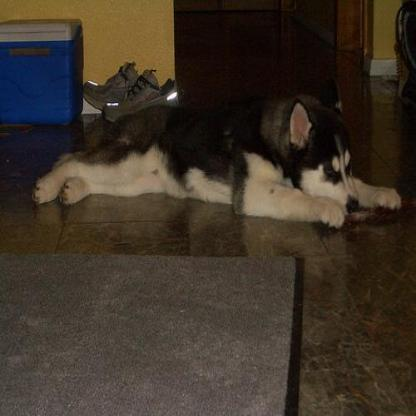Siberian_husky: (30, 77, 403, 233)
